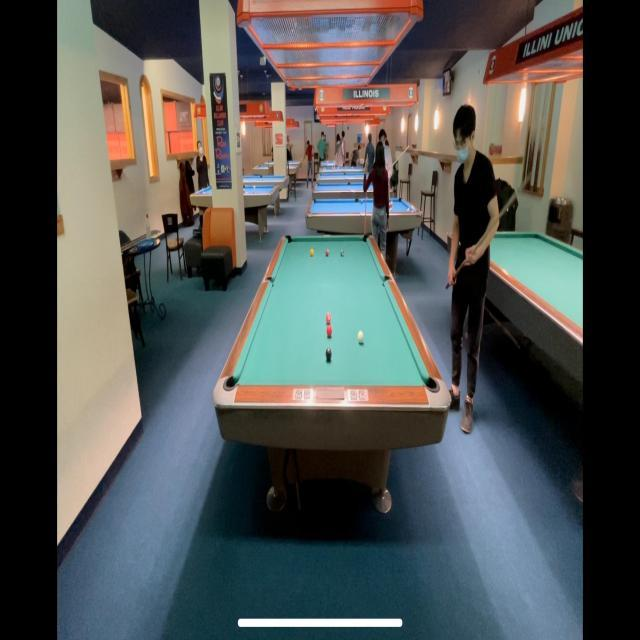Ball: (358, 331, 364, 344), (326, 348, 332, 361), (326, 312, 332, 324), (327, 325, 332, 337), (310, 248, 314, 256), (340, 248, 344, 256), (326, 248, 329, 256)
Pocket: (420, 372, 440, 396), (222, 374, 240, 392), (380, 274, 391, 288), (264, 275, 276, 287), (284, 234, 294, 244), (361, 233, 371, 243)
